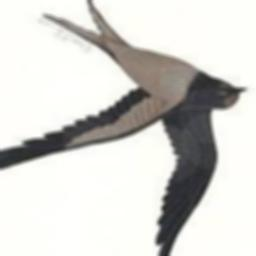Swallow: (0, 0, 249, 256)
